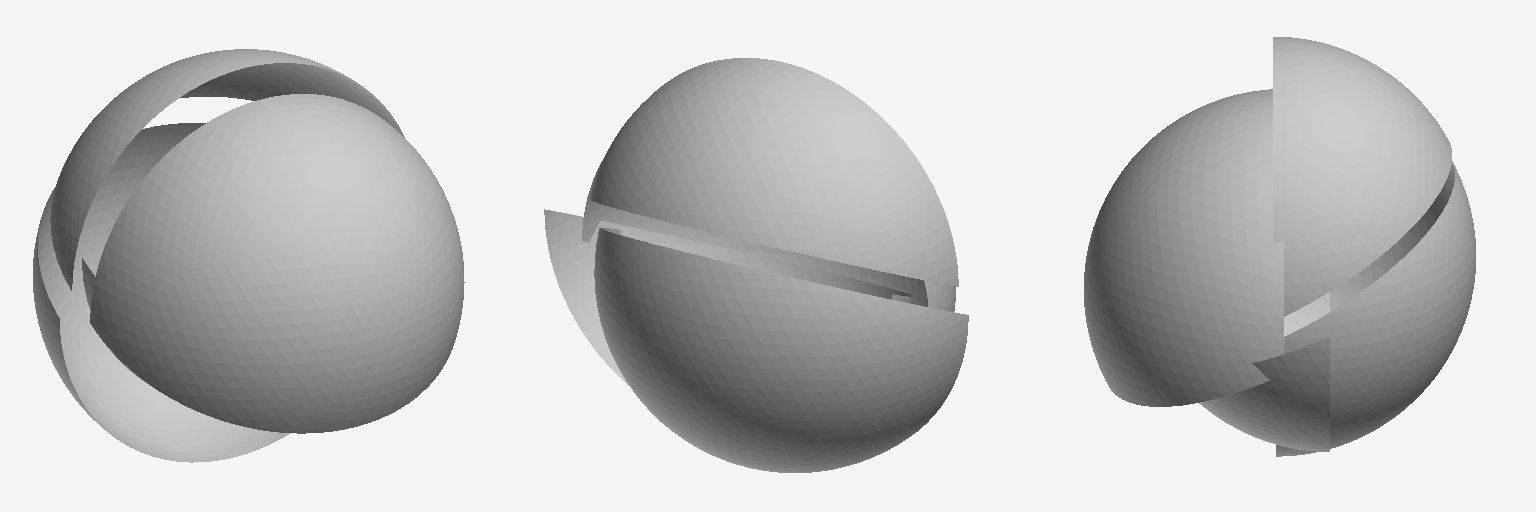
File: polysphere_soup015.obj
3 renders of one model, left to right at view 1: azimuth 30°, elevation 25°; view 2: azimuth 150°, elevation 25°; view 3: azimuth 270°, elevation 25°, orthographic.
Size of the model in its own units: 2.29 by 2.13 by 1.96.